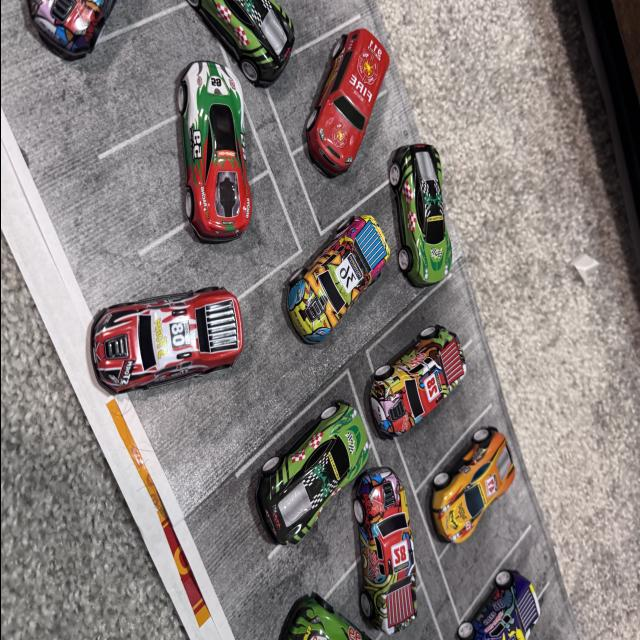Car: (55, 262, 264, 384), (226, 388, 357, 532), (184, 48, 272, 262), (354, 436, 434, 640), (411, 411, 536, 533), (2, 0, 129, 120), (164, 0, 310, 99), (329, 342, 475, 438), (311, 34, 403, 162), (381, 146, 454, 276), (296, 243, 379, 329), (448, 580, 536, 640)
